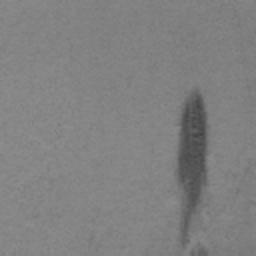Oxide scale of plate system: (174, 82, 212, 256)
